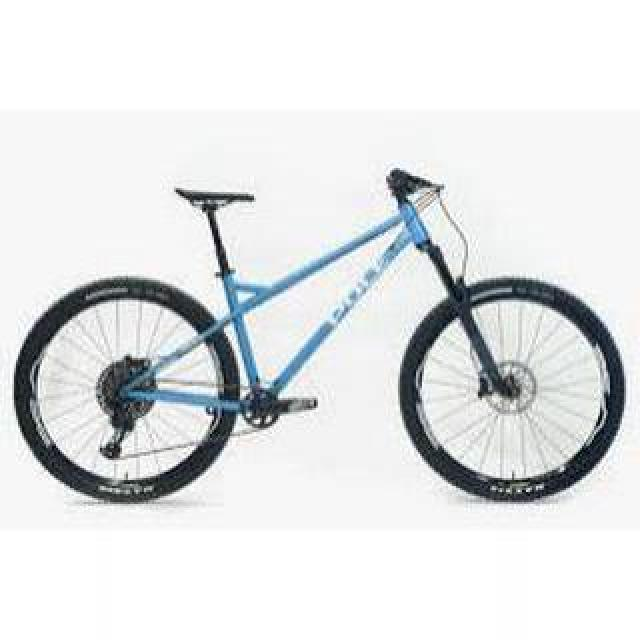Person: (14, 167, 626, 511)
